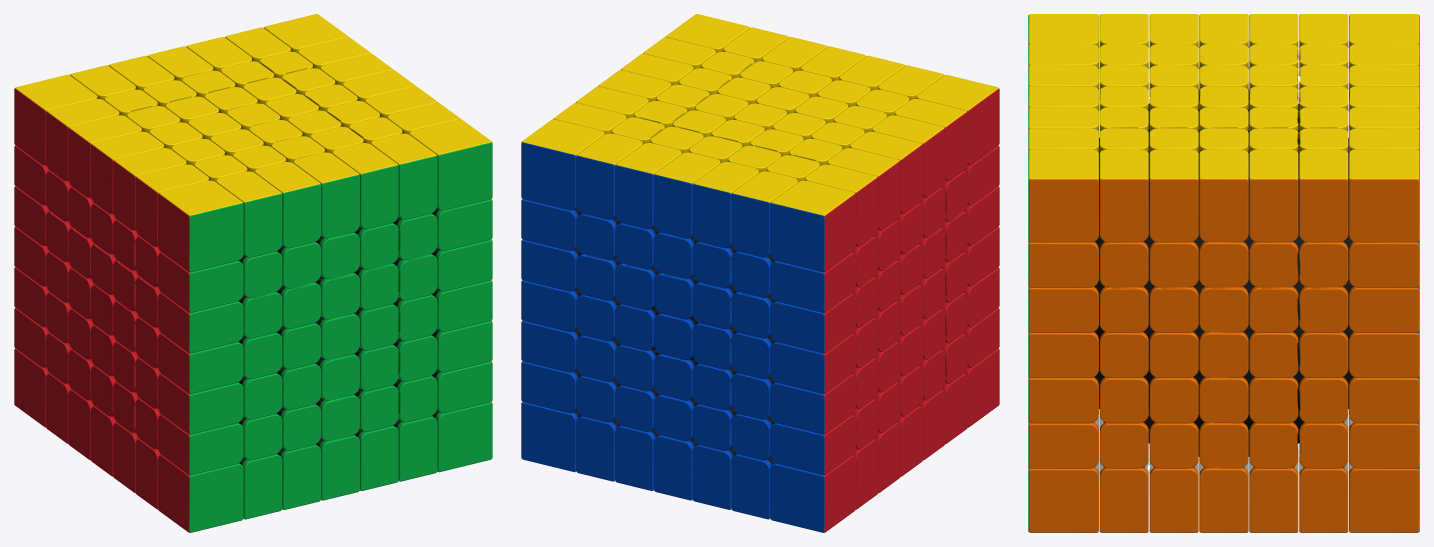
The picture shows the model from 3 angles, left to right: view 1: azimuth 30°, elevation 25°; view 2: azimuth 150°, elevation 25°; view 3: azimuth 270°, elevation 25°; orthographic projection. The views are drawn at different scales.
Parts seen in each view (by area): view 1: piece_-3,3,3, piece_-3,-3,3, piece_3,3,3, piece_-3,3,-3, piece_-3,-1,3, piece_-3,2,3, piece_-3,1,3, piece_-3,0,3, piece_-3,-2,3, piece_-2,3,3, piece_2,3,3, piece_-1,3,3 (+115 smaller); view 2: piece_-3,3,-3, piece_-3,-3,-3, piece_3,3,-3, piece_-3,3,3, piece_-3,-1,-3, piece_-3,2,-3, piece_-3,1,-3, piece_-3,0,-3, piece_-3,-2,-3, piece_-2,3,-3, piece_2,3,-3, piece_-1,3,-3 (+115 smaller); view 3: piece_3,3,-3, piece_3,3,3, interior_occlusion, piece_3,3,-2, piece_3,3,2, piece_3,3,-1, piece_3,3,1, piece_3,3,0, piece_3,-3,3, piece_3,-3,-3, piece_3,1,3, piece_3,1,-3 (+80 smaller).
Boxes of the visible parts, x1=… form: piece_-3,3,3: x1=158, y1=180, x2=243, y2=272; piece_-3,-3,3: x1=158, y1=455, x2=243, y2=532; piece_3,3,3: x1=409, y1=119, x2=492, y2=210; piece_-3,3,-3: x1=14, y1=74, x2=97, y2=165; piece_-3,-1,3: x1=158, y1=374, x2=243, y2=434; piece_-3,2,3: x1=158, y1=252, x2=243, y2=312; piece_-3,1,3: x1=158, y1=293, x2=243, y2=353; piece_-3,0,3: x1=158, y1=333, x2=243, y2=393; piece_-3,-2,3: x1=158, y1=415, x2=243, y2=474; piece_-2,3,3: x1=216, y1=171, x2=282, y2=257; piece_2,3,3: x1=371, y1=133, x2=437, y2=219; piece_-1,3,3: x1=255, y1=162, x2=321, y2=248; piece_-3,3,-3: x1=770, y1=180, x2=855, y2=272; piece_-3,-3,-3: x1=770, y1=455, x2=855, y2=532; piece_3,3,-3: x1=521, y1=119, x2=604, y2=210; piece_-3,3,3: x1=916, y1=74, x2=999, y2=165; piece_-3,-1,-3: x1=770, y1=374, x2=855, y2=434; piece_-3,2,-3: x1=770, y1=252, x2=855, y2=312; piece_-3,1,-3: x1=770, y1=293, x2=855, y2=353; piece_-3,0,-3: x1=770, y1=333, x2=855, y2=393; piece_-3,-2,-3: x1=770, y1=415, x2=855, y2=474; piece_-2,3,-3: x1=731, y1=171, x2=797, y2=257; piece_2,3,-3: x1=576, y1=133, x2=642, y2=219; piece_-1,3,-3: x1=692, y1=162, x2=758, y2=248; piece_3,3,-3: x1=1349, y1=149, x2=1419, y2=242; piece_3,3,3: x1=1028, y1=149, x2=1098, y2=242; interior_occlusion: x1=1094, y1=90, x2=1353, y2=456; piece_3,3,-2: x1=1299, y1=149, x2=1348, y2=242; piece_3,3,2: x1=1099, y1=149, x2=1148, y2=242; piece_3,3,-1: x1=1249, y1=149, x2=1298, y2=242; piece_3,3,1: x1=1149, y1=149, x2=1198, y2=242; piece_3,3,0: x1=1199, y1=149, x2=1248, y2=242; piece_3,-3,3: x1=1028, y1=467, x2=1098, y2=532; piece_3,-3,-3: x1=1349, y1=467, x2=1419, y2=532; piece_3,1,3: x1=1028, y1=286, x2=1098, y2=332; piece_3,1,-3: x1=1349, y1=286, x2=1419, y2=332.
Bounding box in the file's own units: 2 × 2 × 2.
